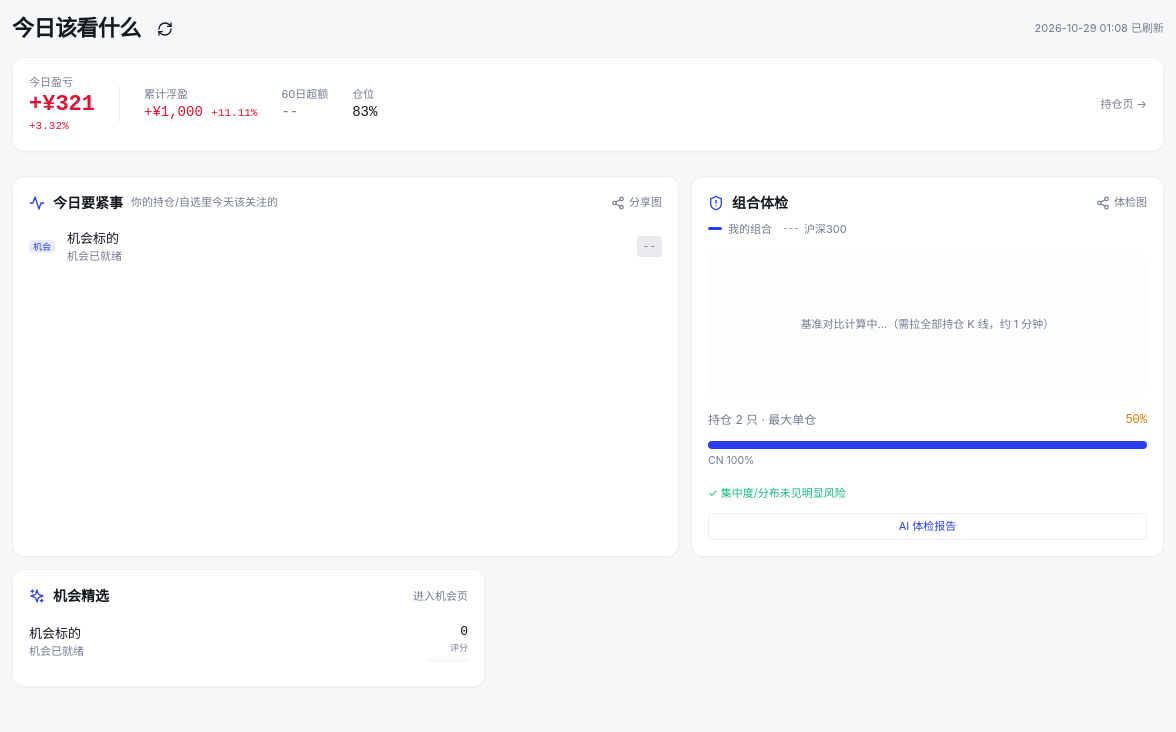
Test: dashboard progressive loading › ignores the old benchmark response after a newer refresh finishes
Click the 1st button at (165, 28), box [149, 14, 181, 42]
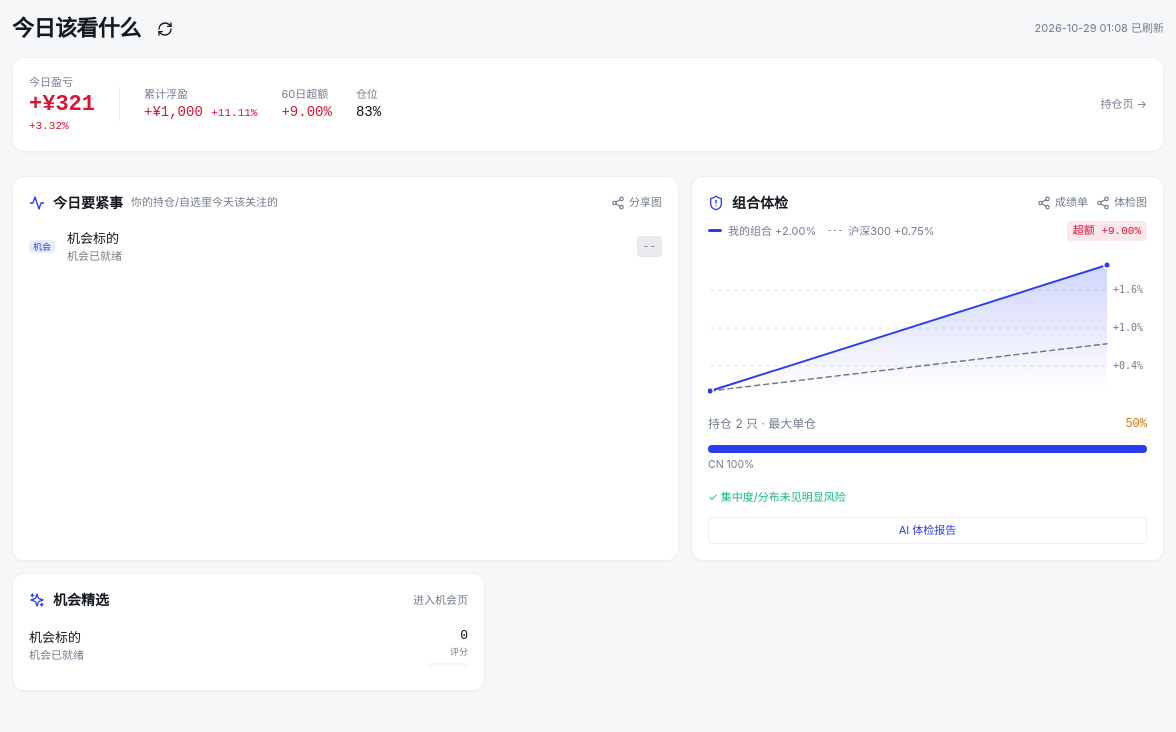
Check: the text "+9.00%" is shown, box [282, 102, 332, 123]
